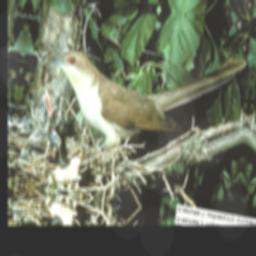Cuckoo: (37, 22, 246, 172)
